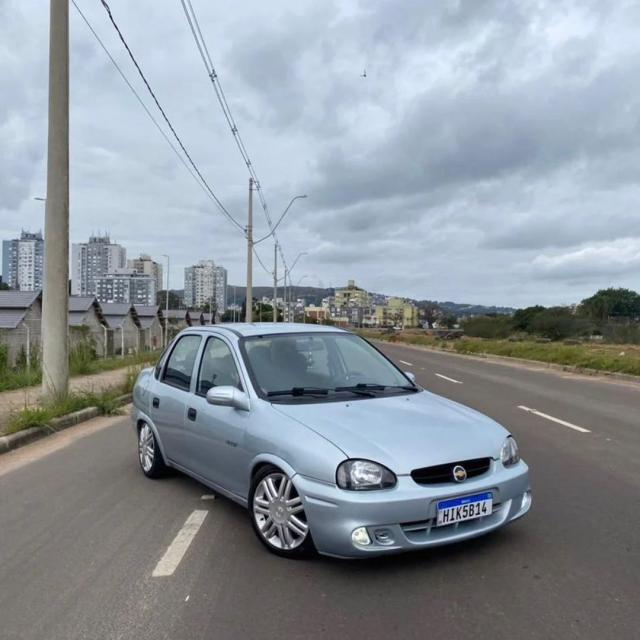Placas: (435, 487, 492, 528)
